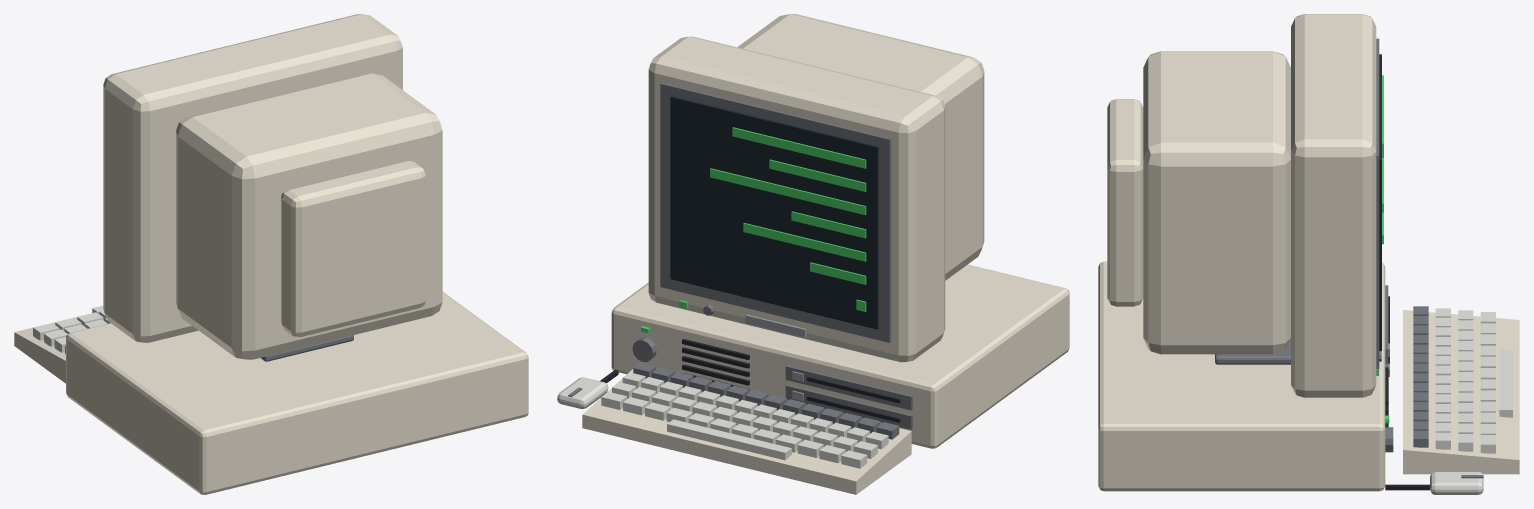
The model's file is computer.obj.
The picture shows the model from 3 angles, left to right: view 1: azimuth 30°, elevation 25°; view 2: azimuth 150°, elevation 25°; view 3: azimuth 270°, elevation 25°; orthographic projection. The views are drawn at different scales.
Visible parts, largest first — view 1: computer; view 2: computer; view 3: computer.
Boxes of the visible parts, x1,y1,x2,y2 form: computer: (14,14,528,494); computer: (557,14,1069,494); computer: (1098,14,1519,494).
Bounding box in the file's own units: 0.9 × 0.82 × 0.94.
